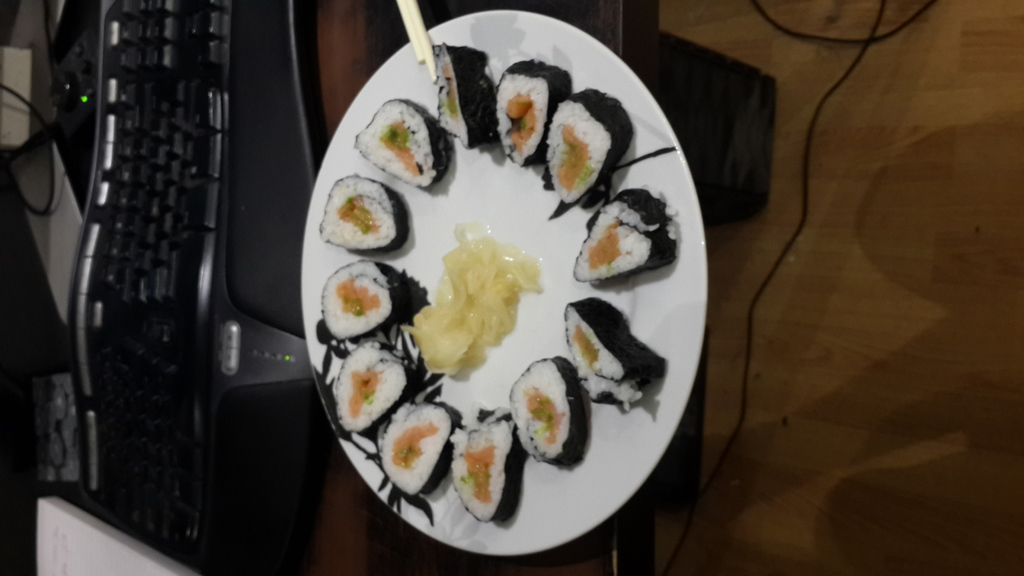sushi: (325, 260, 664, 520), (349, 39, 676, 283), (548, 86, 639, 207), (320, 175, 406, 244), (454, 422, 514, 520)
